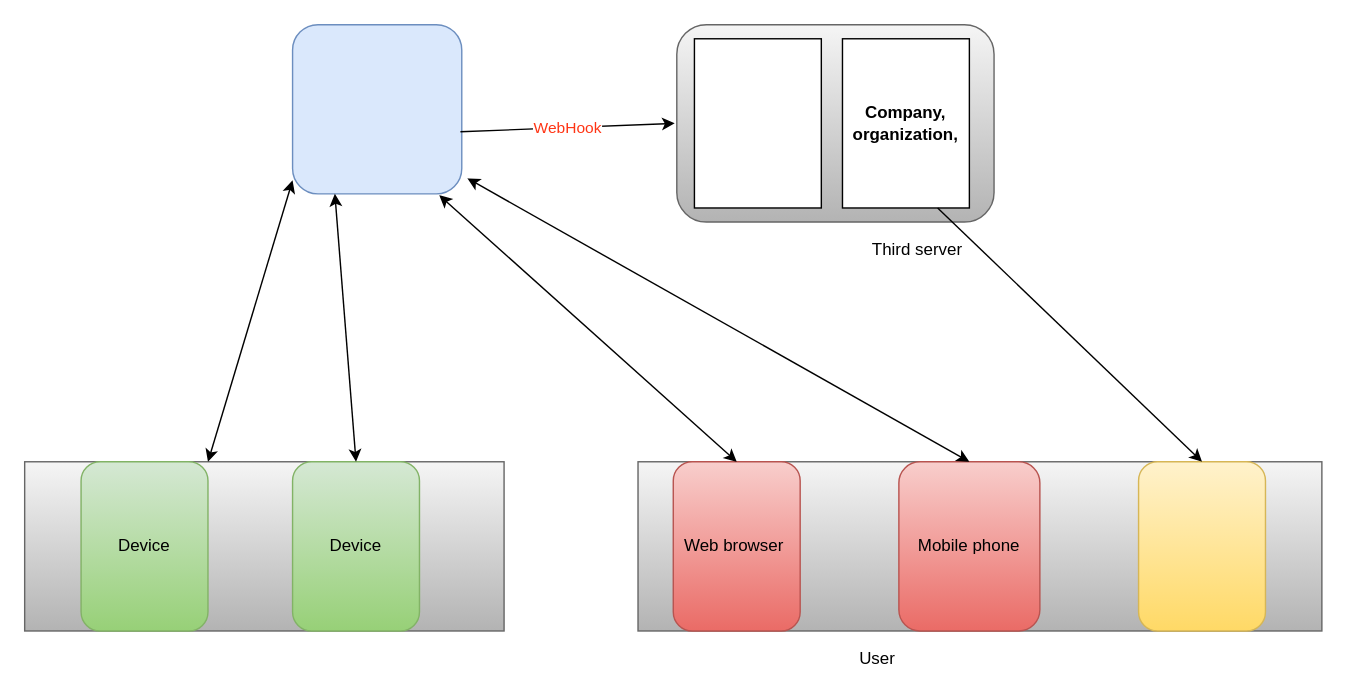
The diagram is 1347 pixels wide and 698 high, and some of its shapes have lost their labels. The centre of each missing label's shape, as x and y in pixels:
"Business Application" goes at (1201,545).
"Ministry of Natural Resources and Environment" goes at (757,122).
"Uhes Cloud" goes at (376,108).
